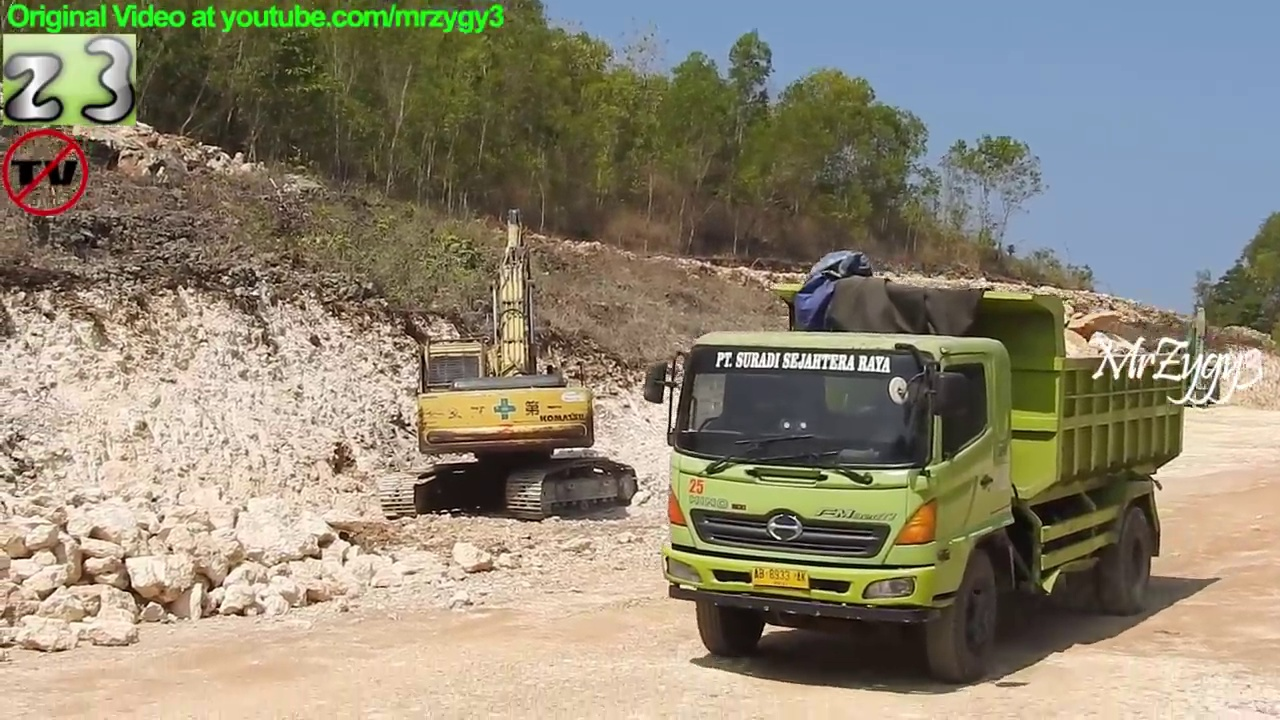excavator: (1143, 285, 1234, 414)
excavator breaker: (369, 202, 644, 530)
truck: (637, 243, 1199, 690)
